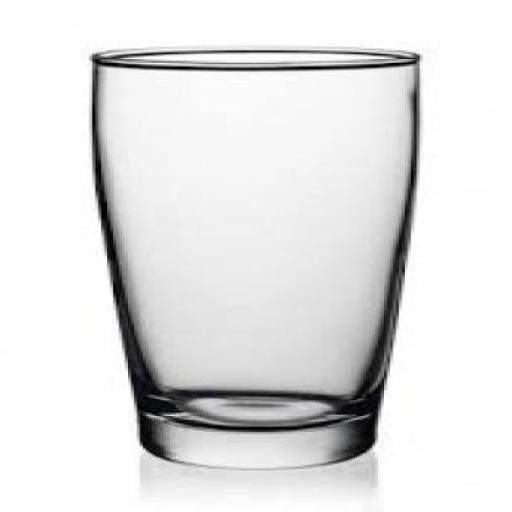glass: (95, 46, 423, 472)
